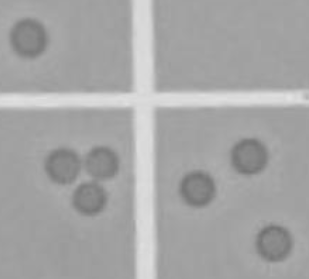cell: (2, 13, 52, 63), (249, 216, 298, 267), (223, 131, 271, 179), (174, 165, 222, 212), (39, 141, 85, 189), (64, 176, 115, 219), (79, 140, 122, 185)
